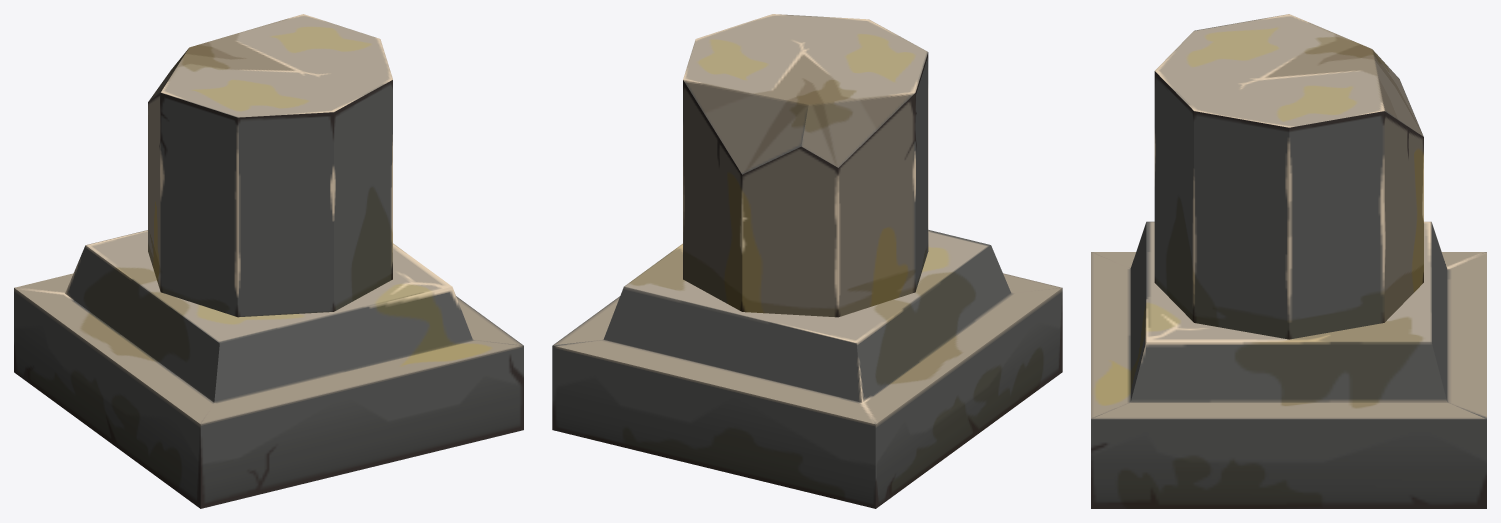
The model's file is Pillar_04_001.fbx.
The picture shows the model from 3 angles, left to right: view 1: azimuth 30°, elevation 25°; view 2: azimuth 150°, elevation 25°; view 3: azimuth 270°, elevation 25°; orthographic projection. The views are drawn at different scales.
Parts seen in each view (by area): view 1: Base_Pillar, Pillar_01; view 2: Base_Pillar, Pillar_01; view 3: Base_Pillar, Pillar_01.
Boxes of the visible parts, x1,y1,x2,y2 form: Base_Pillar: (14,230,523,508); Pillar_01: (148,14,392,317); Base_Pillar: (552,230,1062,508); Pillar_01: (683,14,928,317); Base_Pillar: (1091,221,1486,508); Pillar_01: (1154,14,1423,339).
Bounding box in the file's own units: 2 × 1.98 × 2.
Materials: 1 (1 with a texture image).
